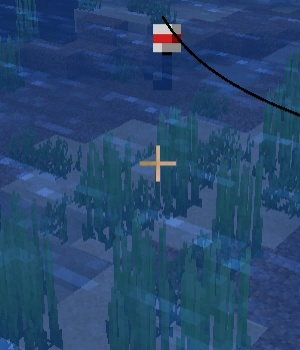up: (145, 16, 188, 91)
